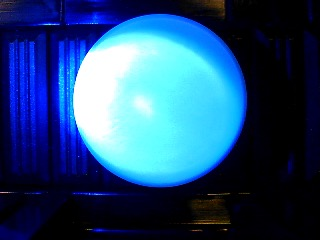BLANK: (72, 14, 248, 188)
